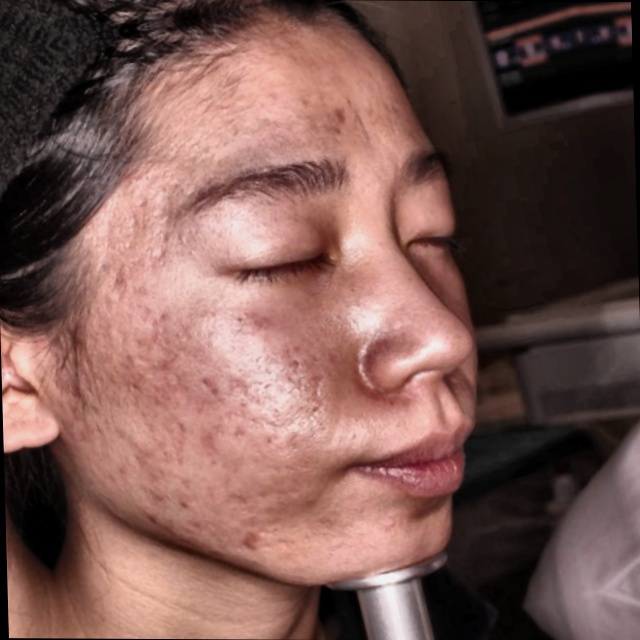comedone: (225, 515, 301, 565), (324, 93, 372, 160), (132, 496, 186, 540)
